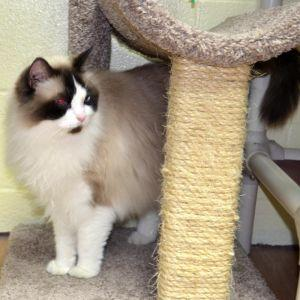ragdoll: (15, 47, 105, 137)
